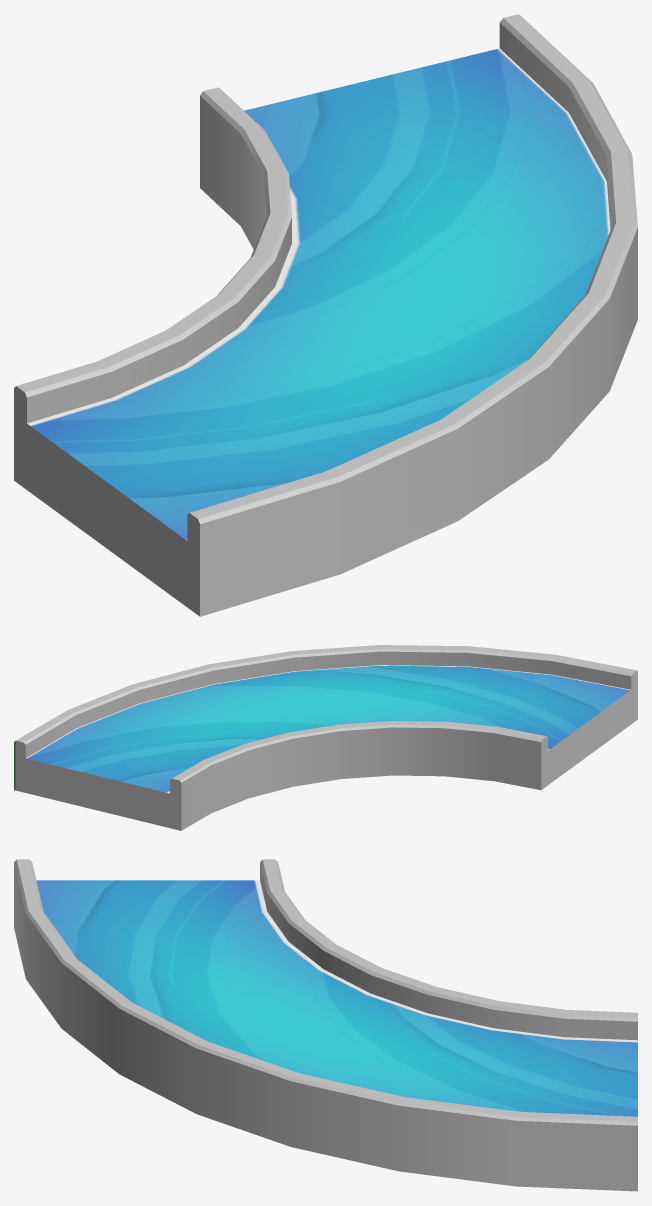
File: PLF0110195.fbx
3 views of the same model, one above another, from view 1: azimuth 30°, elevation 25°; view 2: azimuth 150°, elevation 25°; view 3: azimuth 270°, elevation 25° (orthographic). The views are drawn at different scales.
Parts seen in each view (by area): view 1: smPLF0110195; view 2: smPLF0110195; view 3: smPLF0110195.
Boxes of the visible parts, x1=… form: smPLF0110195: x1=14, y1=14, x2=637, y2=616; smPLF0110195: x1=14, y1=645, x2=637, y2=830; smPLF0110195: x1=14, y1=859, x2=637, y2=1191.
Size of the model in its own units: 310 by 37.36 by 309.
